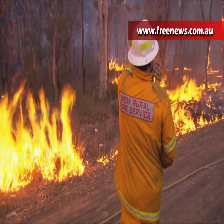fire_h: (1, 79, 84, 192), (166, 75, 224, 137), (207, 46, 221, 74)
fire_l: (108, 58, 124, 71), (97, 153, 109, 166), (111, 150, 118, 160), (113, 74, 120, 82), (183, 65, 193, 70)
